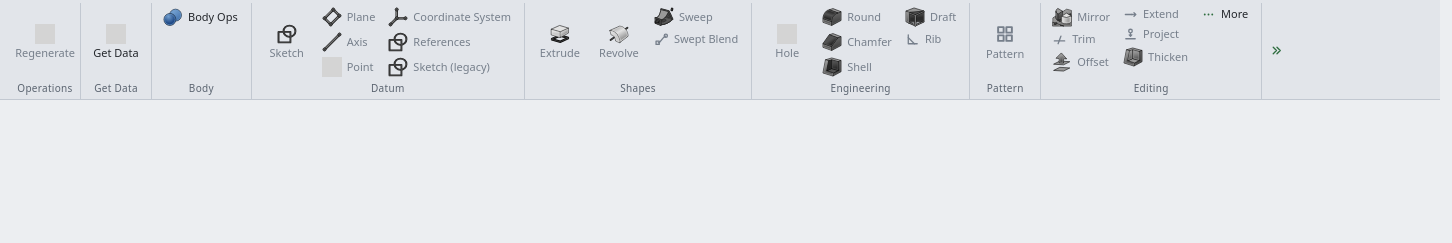
Test case: B4 — the rendered dense ribbon (jsdom) › folded groups land in the » overflow with group-prefixed tri-state items
The image size is (1452, 243).
Check: the text "Surfaces" is not shown
Check: the text "Model Intent" is not shown
// …and every one of their commands is reachable through »
Click the button named "More ribbon groups" at (1277, 51), box [1262, 36, 1291, 65]
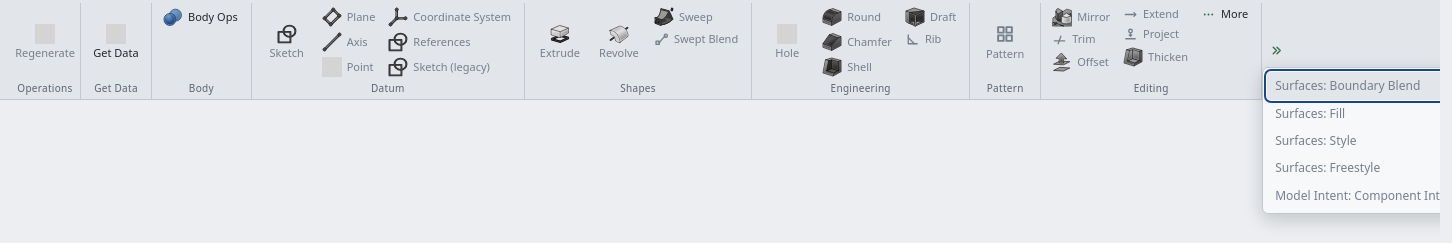
Check: the menu item "Surfaces: Fill" is shown, box [1275, 105, 1345, 122]
Check: the menu item "Surfaces: Style" is shown, box [1275, 132, 1356, 149]
Check: the menu item "Surfaces: Freestyle" is shown, box [1275, 159, 1380, 176]
